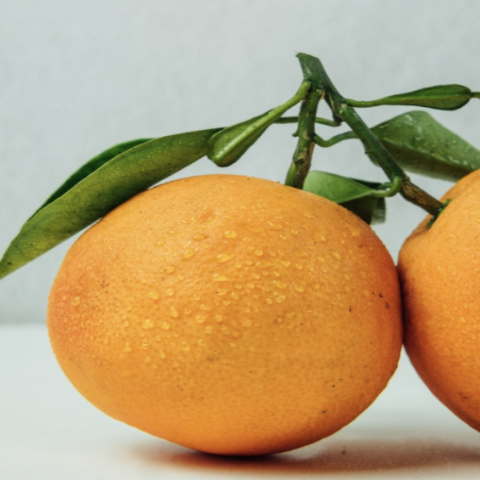orange: (11, 143, 441, 475)
